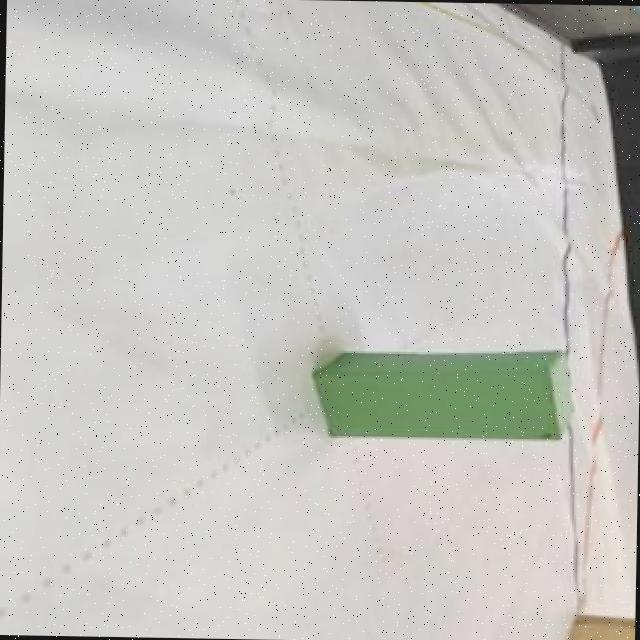greenbox: (308, 344, 576, 441)
